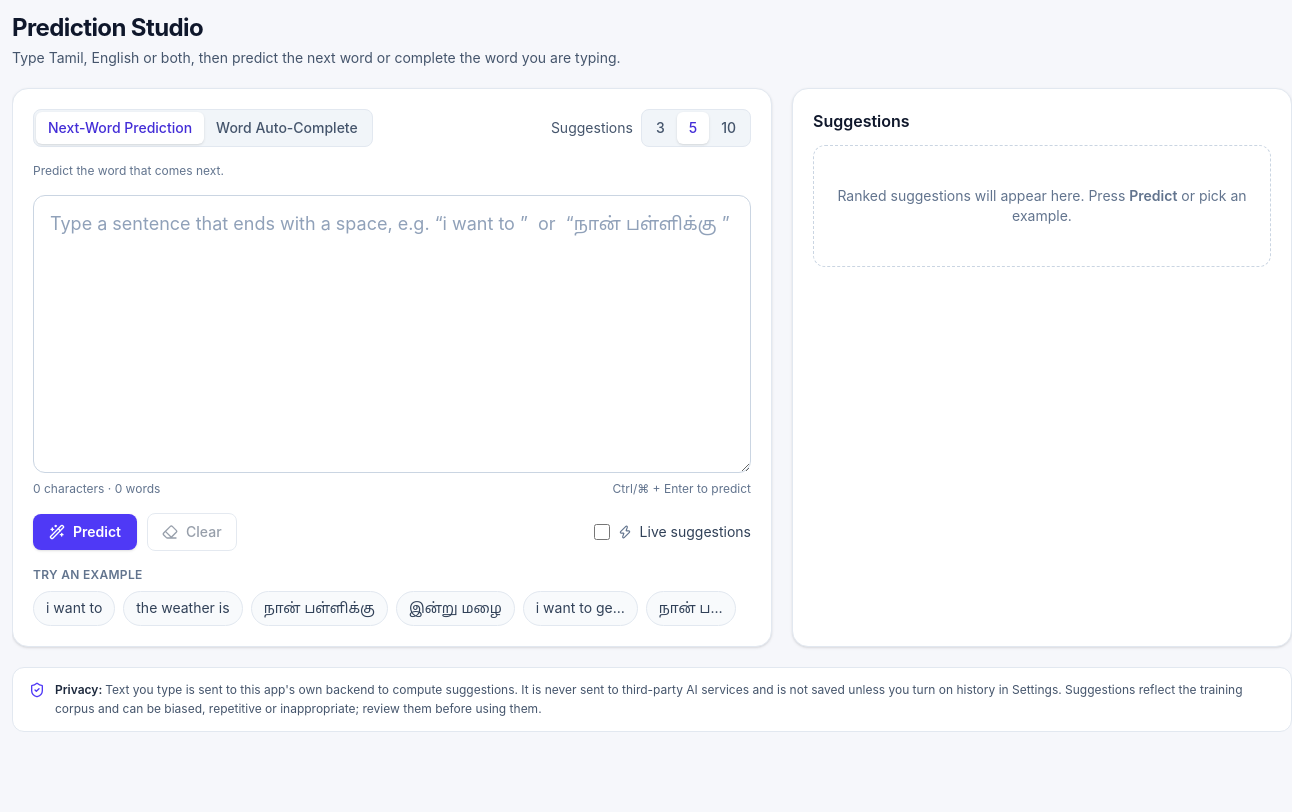
Test case: Prediction Studio › completes the partial word in auto-complete mode
Click the text box named "Text to continue" at (392, 334), box [33,195,751,473]
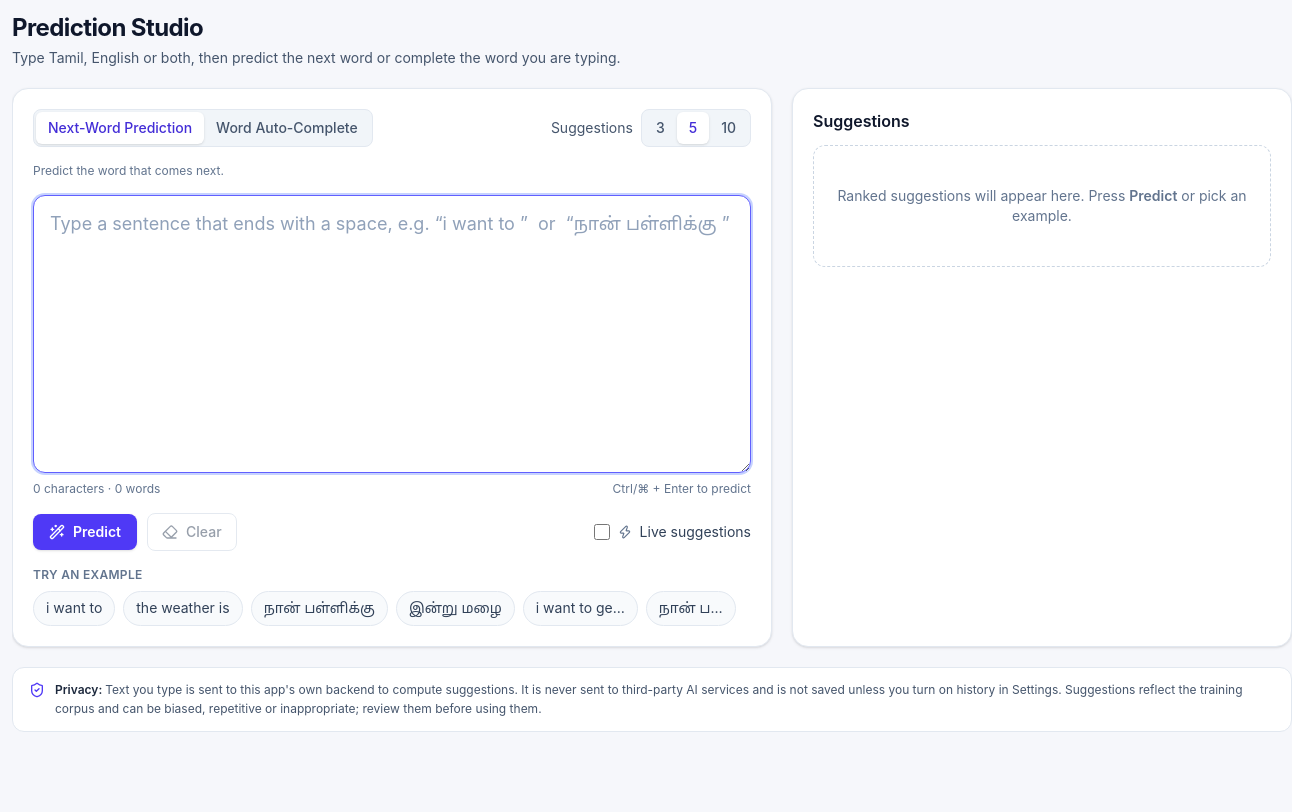
Type keys "i want to ge"
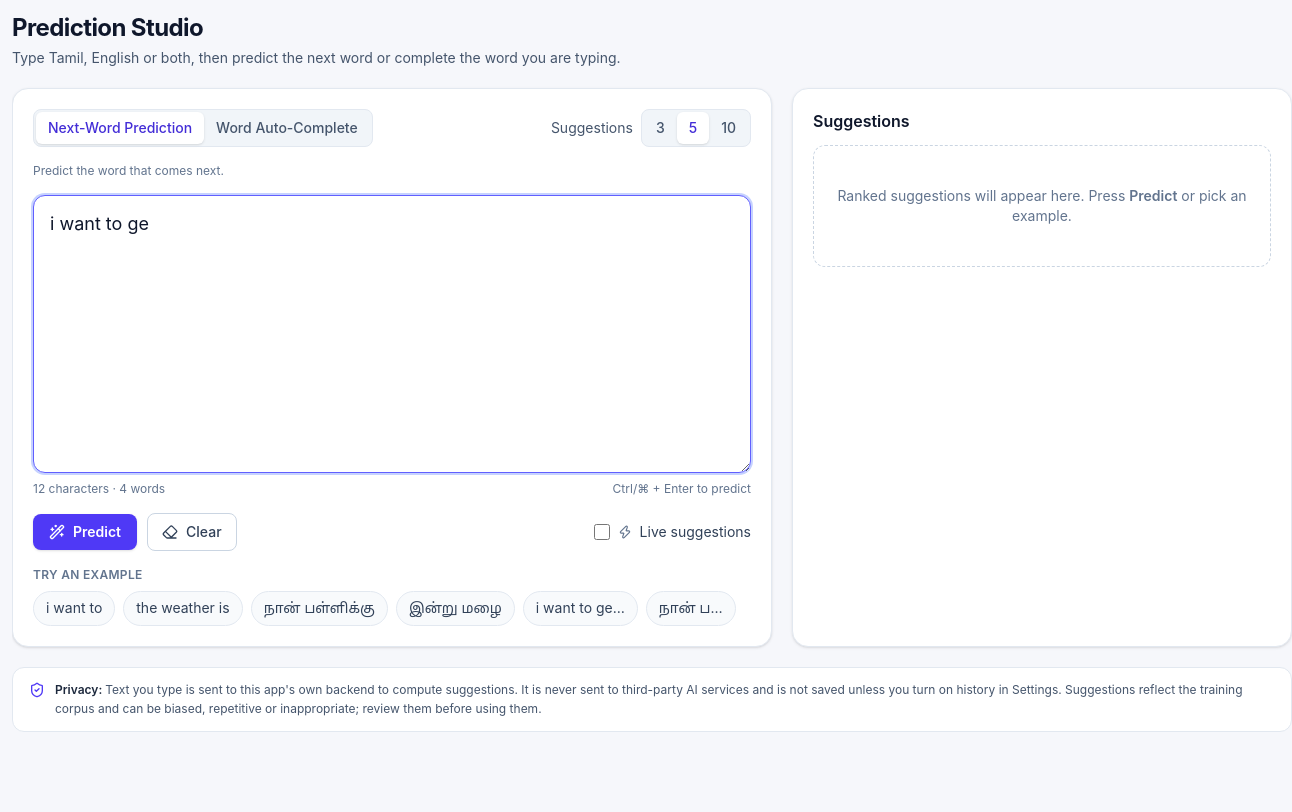
Click the radio button labelled "Word Auto-Complete" at (287, 128), box [204,112,370,144]
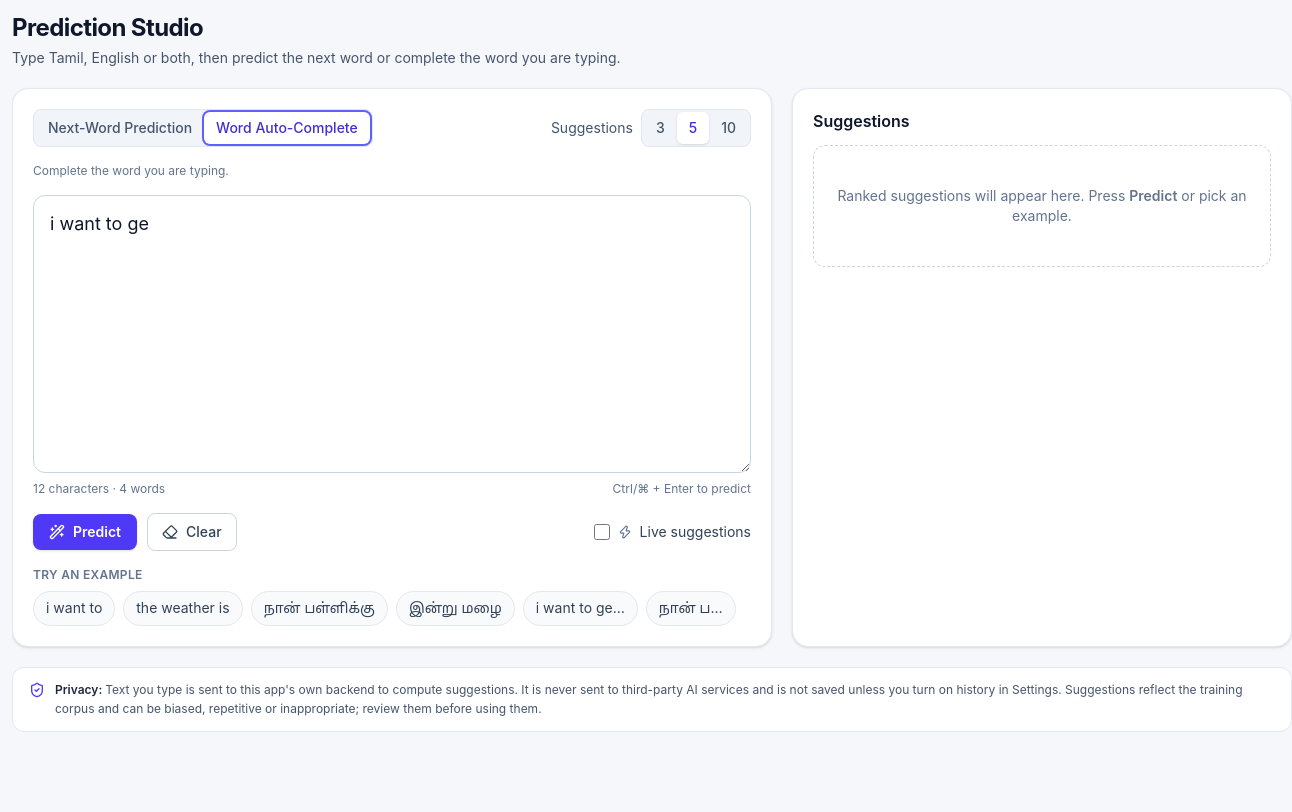
Click the button "Predict" at (85, 532), box [33,514,137,550]
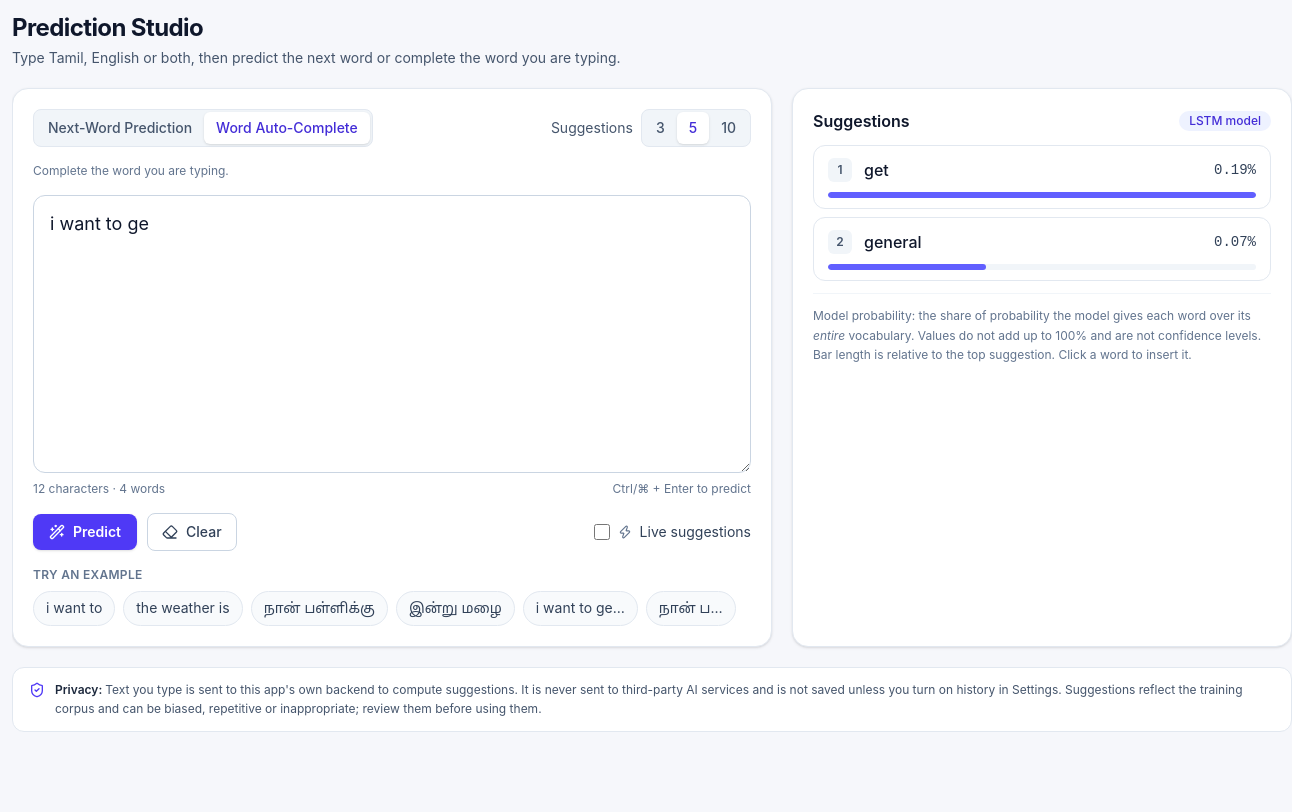
Click the button with aria-label "insert get" at (1235, 170), box [813,145,1271,209]
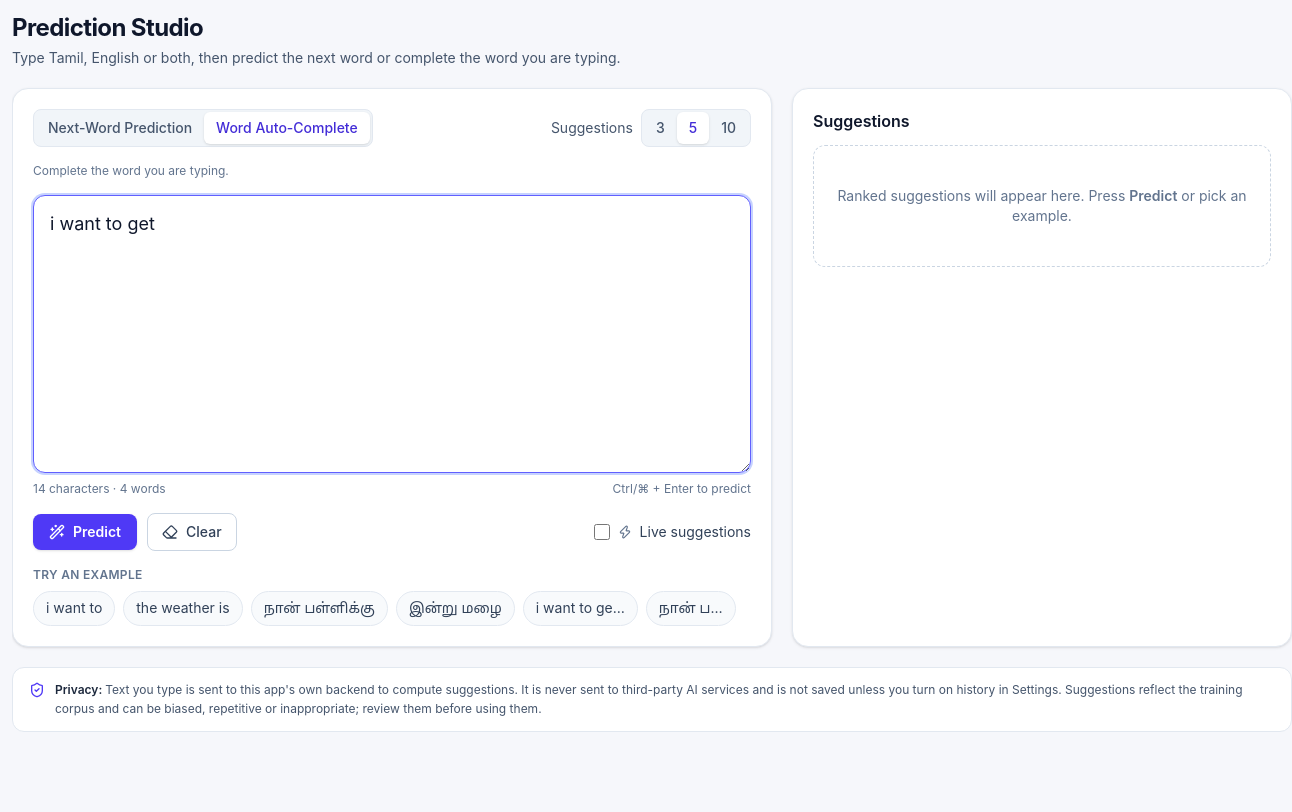
expect the text box named "Text to continue" holds "i want to get ": met, box [33,195,751,473]
